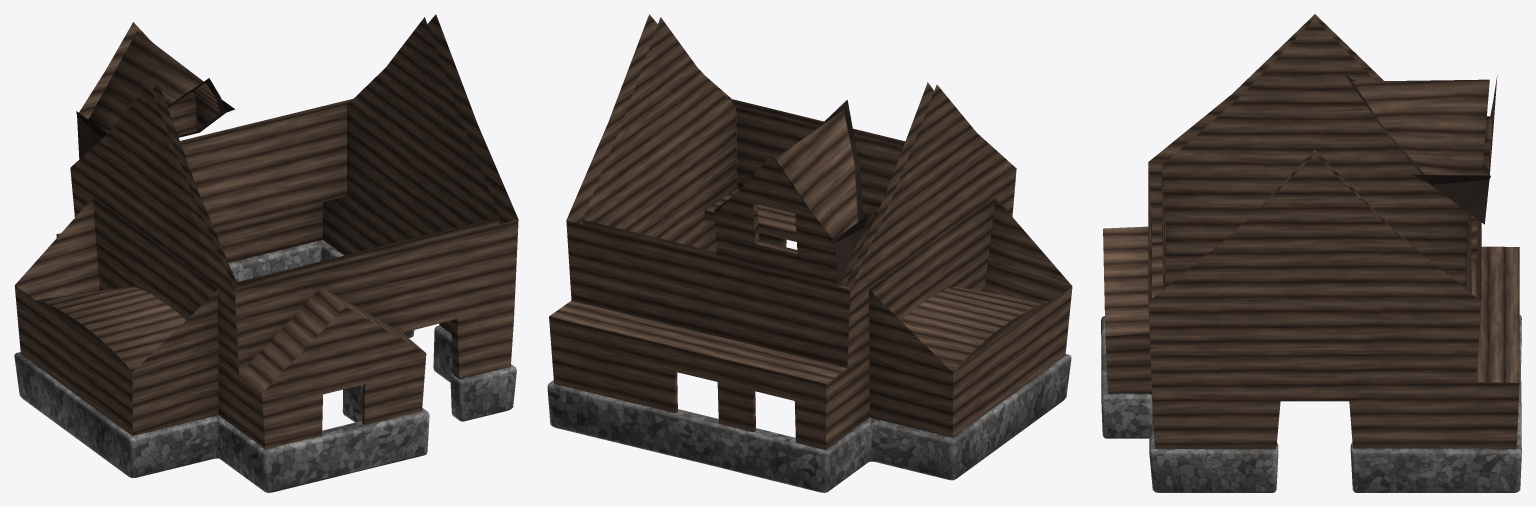
Rendered from Walls_v2.fbx.
3 views of the same model, side by side, from view 1: azimuth 30°, elevation 25°; view 2: azimuth 150°, elevation 25°; view 3: azimuth 270°, elevation 25° (orthographic).
Visible parts, largest first — view 1: LogsWall, StoneWall; view 2: LogsWall, StoneWall; view 3: LogsWall, StoneWall.
Boxes of the visible parts, left/top/right/bottom form: LogsWall: left=14, top=14, right=518, bottom=449; StoneWall: left=14, top=240, right=516, bottom=492; LogsWall: left=549, top=14, right=1072, bottom=449; StoneWall: left=547, top=354, right=1071, bottom=492; LogsWall: left=1103, top=14, right=1519, bottom=449; StoneWall: left=1101, top=315, right=1521, bottom=492.
Bounding box in the file's own units: 700 × 621 × 696.
Materials: 2 (2 with a texture image).
